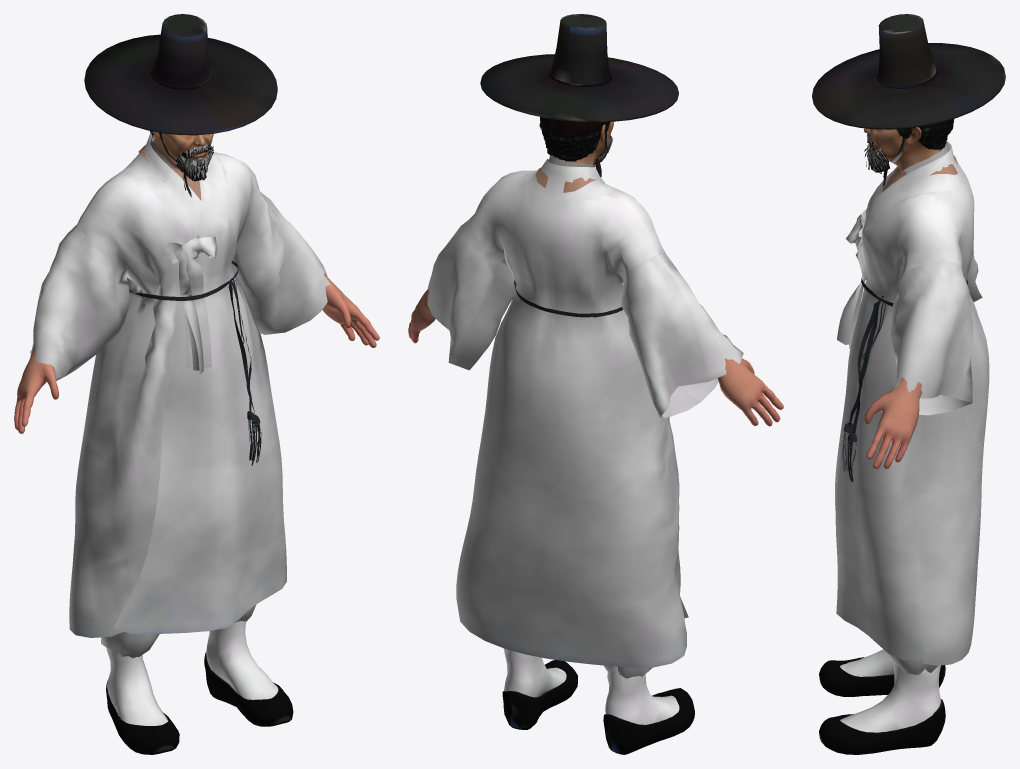
Rendered from scholar.fbx.
The picture shows the model from 3 angles, left to right: view 1: azimuth 30°, elevation 25°; view 2: azimuth 150°, elevation 25°; view 3: azimuth 270°, elevation 25°; orthographic projection. The views are drawn at different scales.
Parts seen in each view (by area): view 1: NPC_RichScholar_Mesh_0; view 2: NPC_RichScholar_Mesh_0; view 3: NPC_RichScholar_Mesh_0.
Part boxes in pixels (left/top/right/bottom): NPC_RichScholar_Mesh_0: left=14, top=14, right=379, bottom=754; NPC_RichScholar_Mesh_0: left=408, top=14, right=783, bottom=754; NPC_RichScholar_Mesh_0: left=812, top=14, right=1005, bottom=754.
Bounding box in the file's own units: 99.92 × 185 × 46.6.
2 materials, 2 textured.
